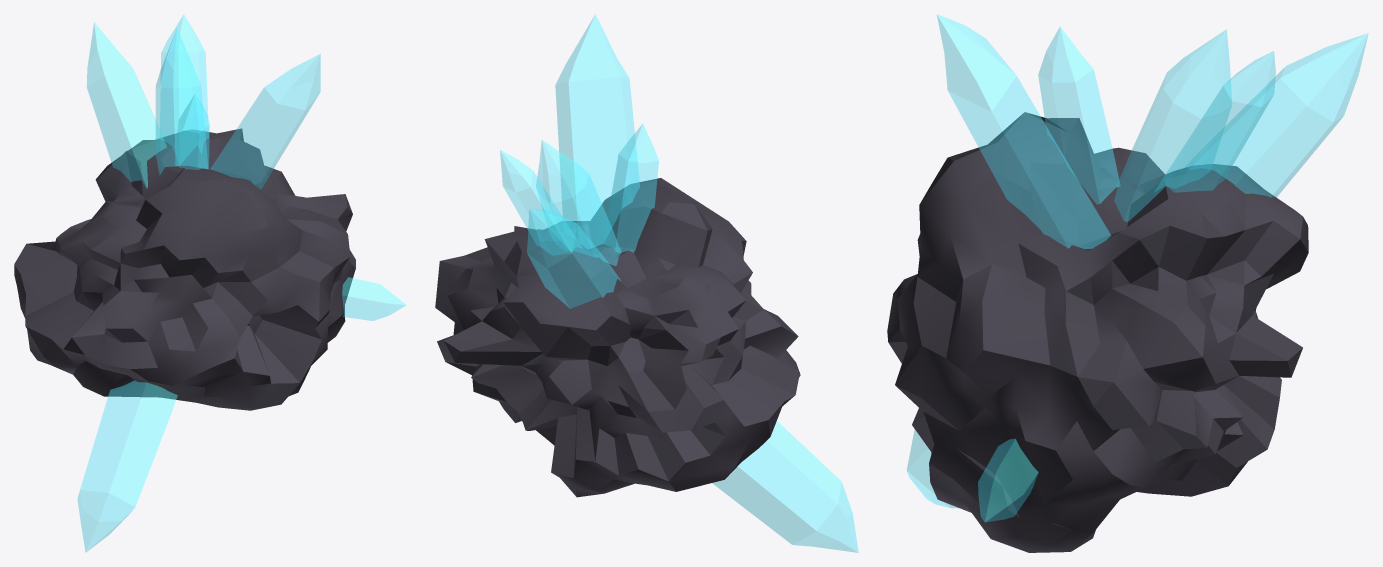
Rendered from Debris_01_quest.glb.
The picture shows the model from 3 angles, left to right: view 1: azimuth 30°, elevation 25°; view 2: azimuth 150°, elevation 25°; view 3: azimuth 270°, elevation 25°; orthographic projection. The views are drawn at different scales.
Parts seen in each view (by area): view 1: Debris_01_Rock, Debris_01_Crystals; view 2: Debris_01_Rock, Debris_01_Crystals; view 3: Debris_01_Rock, Debris_01_Crystals.
Boxes of the visible parts, x1,y1,x2,y2 form: Debris_01_Rock: (14, 128, 355, 410); Debris_01_Crystals: (77, 15, 405, 552); Debris_01_Rock: (435, 178, 800, 497); Debris_01_Crystals: (500, 14, 858, 552); Debris_01_Rock: (887, 112, 1308, 552); Debris_01_Crystals: (907, 14, 1368, 521).
Bounding box in the file's own units: 2.15 × 2.65 × 1.75.
